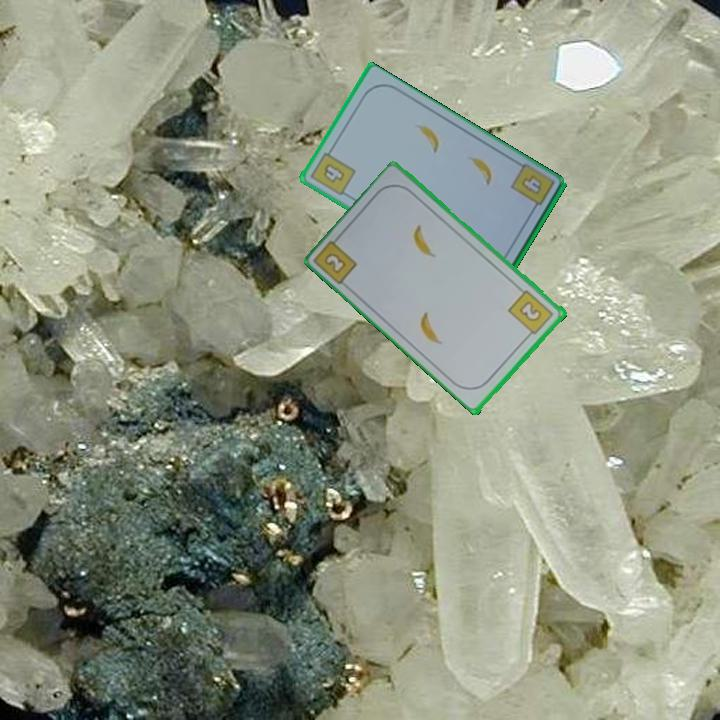2b: (505, 286, 557, 341), (321, 249, 350, 277)
4b: (307, 144, 358, 199), (519, 174, 543, 195)
